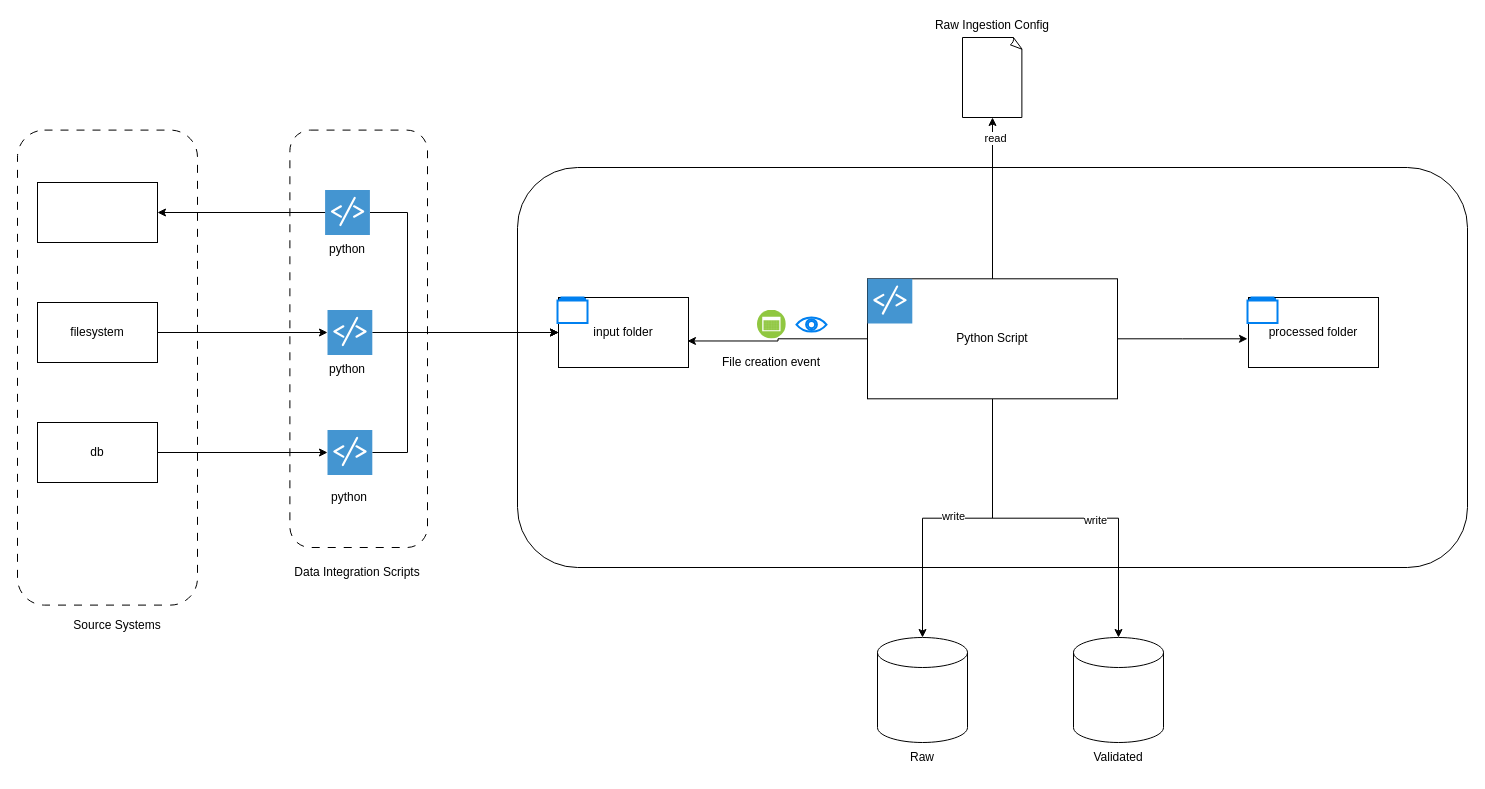
Image size: 1485x789. Some labels were removed from this diagram. The shapes that lost their labels are listed below. From the top down, each one's centre as x and y in pixels, then its label:
[992,77]: .yml
[97,212]: api
